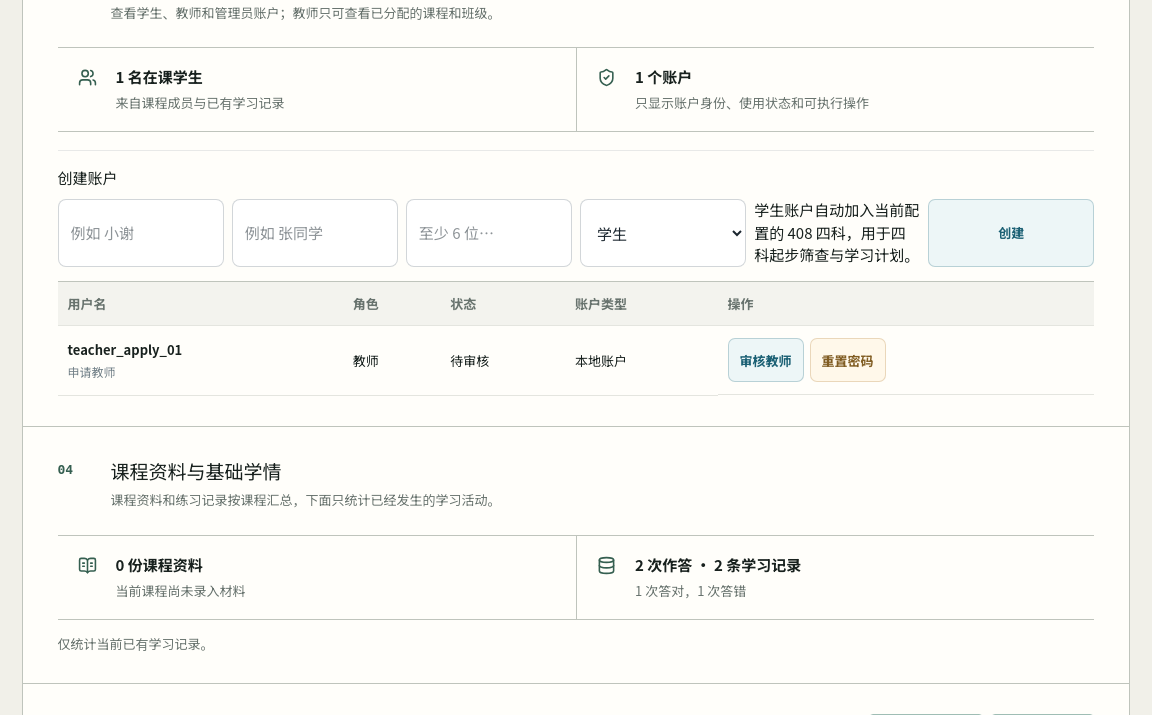
AdminEntryPage › explains why a teacher cannot be approved before classes are available
(page scrolled)
Step 1. Click the button "审核教师" → (766, 360), box left=728, top=338, right=804, bottom=382
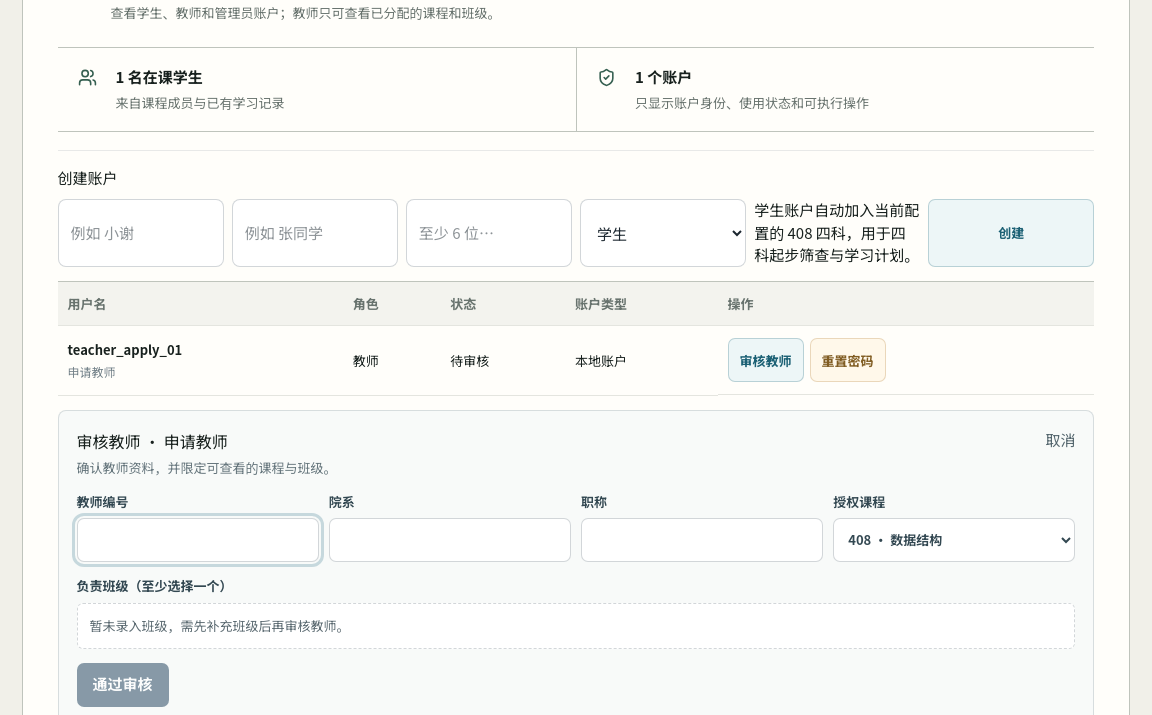
Check: the message shows "暂未录入班级，需先补充班级后再审核教师", box left=90, top=616, right=350, bottom=635
Check: the button "通过审核" is disabled, box left=76, top=663, right=168, bottom=707
